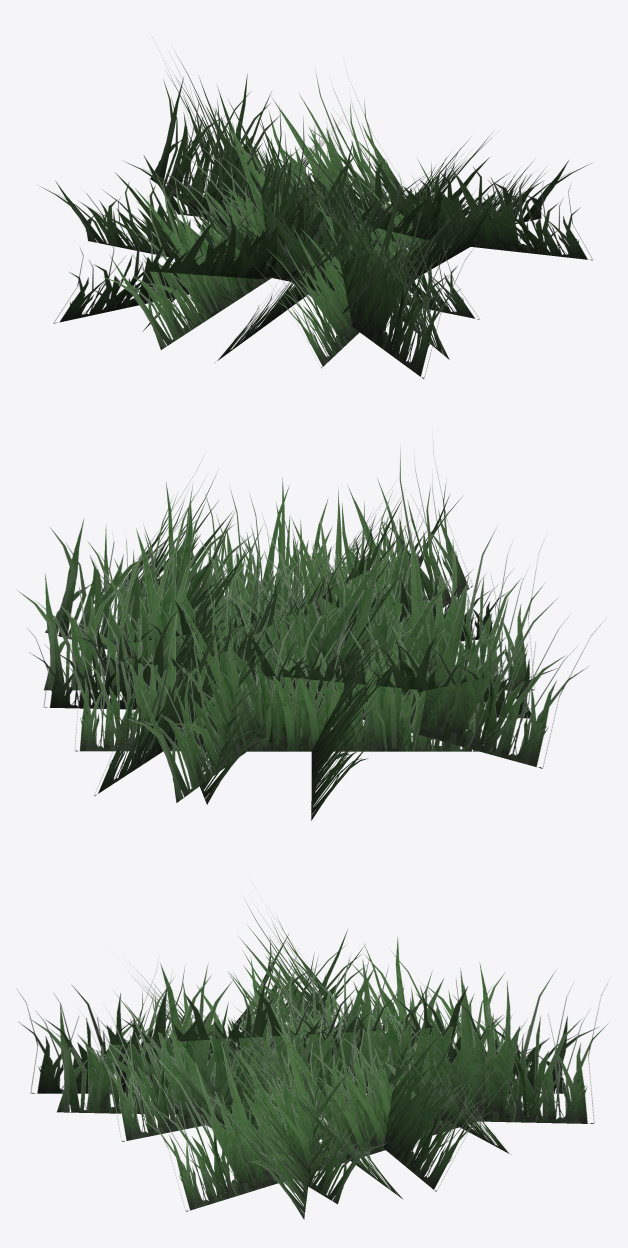
File: low_grass_3.glb
3 views of the same model, one above another, from view 1: azimuth 30°, elevation 25°; view 2: azimuth 150°, elevation 25°; view 3: azimuth 270°, elevation 25° (orthographic). The views are drawn at different scales.
Visible parts, largest first — view 1: GrassLOD3; view 2: GrassLOD3; view 3: GrassLOD3.
Part boxes in pixels (left/top/right/bottom): GrassLOD3: left=38, top=43, right=592, bottom=378; GrassLOD3: left=16, top=431, right=607, bottom=820; GrassLOD3: left=16, top=883, right=611, bottom=1219.
Bounding box in the file's own units: 0.9038 × 0.263 × 0.9162.
1 material, 1 textured.
